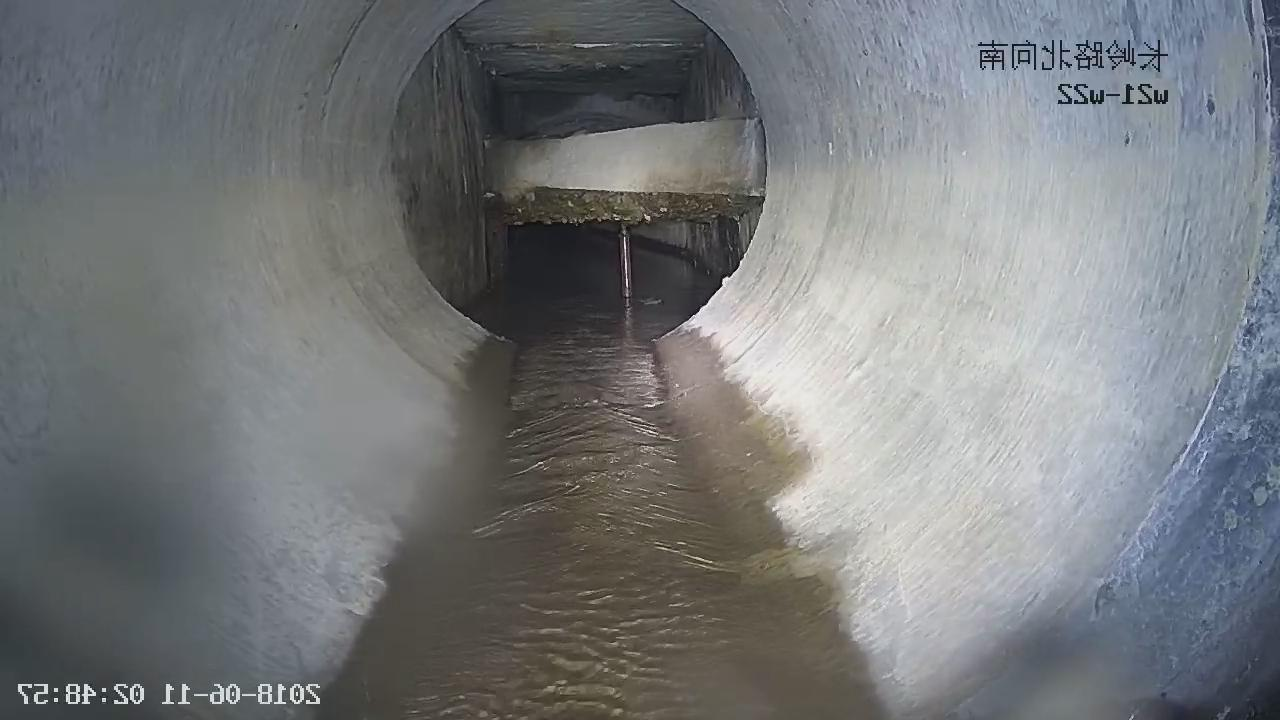YWCR: (487, 118, 764, 298)
